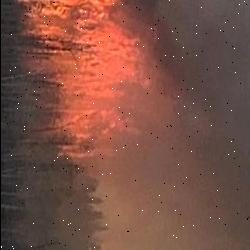fire: (20, 0, 162, 158)
